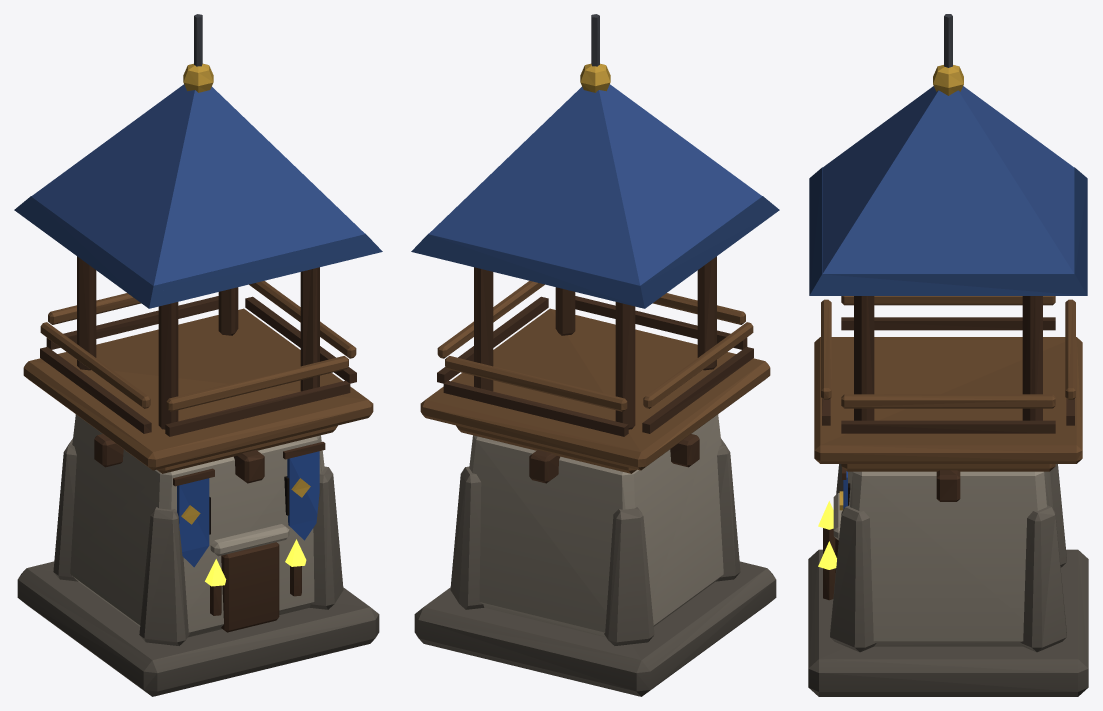
Rendered from arrow_tower.glb.
3 views of the same model, side by side, from view 1: azimuth 30°, elevation 25°; view 2: azimuth 150°, elevation 25°; view 3: azimuth 270°, elevation 25° (orthographic). The views are drawn at different scales.
Parts seen in each view (by area): view 1: arrow_tower; view 2: arrow_tower; view 3: arrow_tower.
Boxes of the visible parts, box(x1,y1,x2,y2) form: arrow_tower: box(14, 14, 382, 696); arrow_tower: box(411, 14, 779, 696); arrow_tower: box(808, 14, 1088, 696).
Size of the model in its own units: 0.94 by 2.32 by 0.94.
